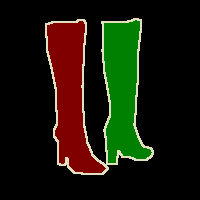shoe: (46, 19, 108, 174), (102, 18, 153, 164)
